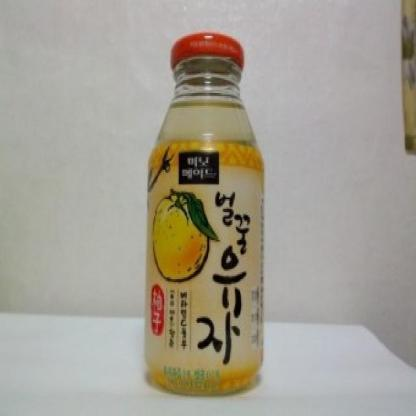Glass Bottle: (143, 31, 264, 396)
